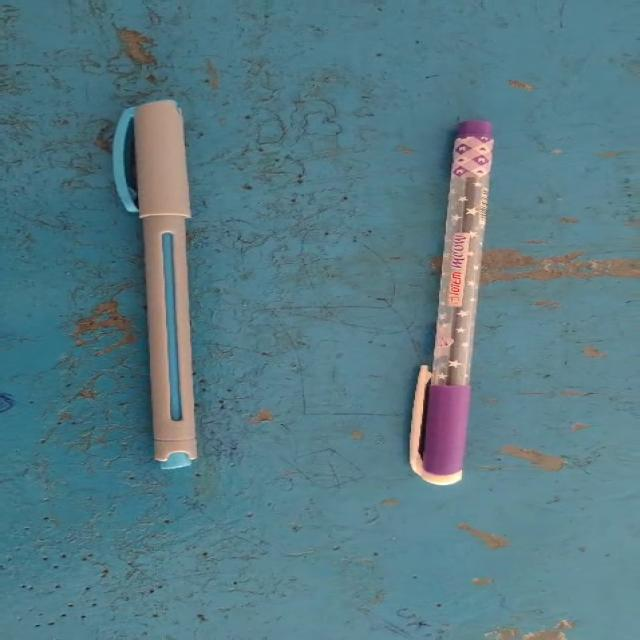pen: (70, 75, 281, 501), (365, 78, 537, 516)
